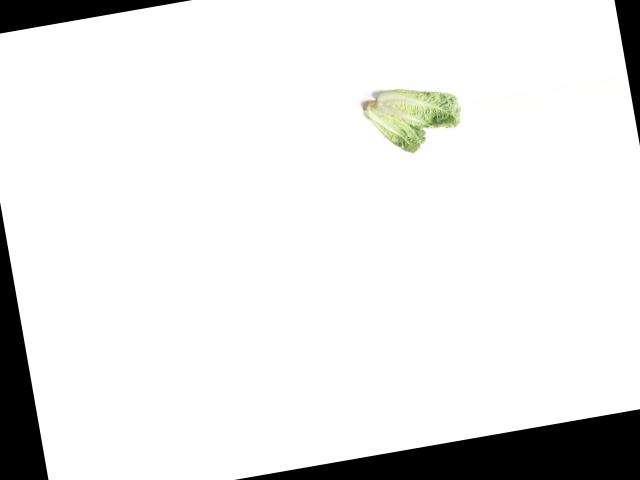lettuce: (356, 90, 428, 161)
